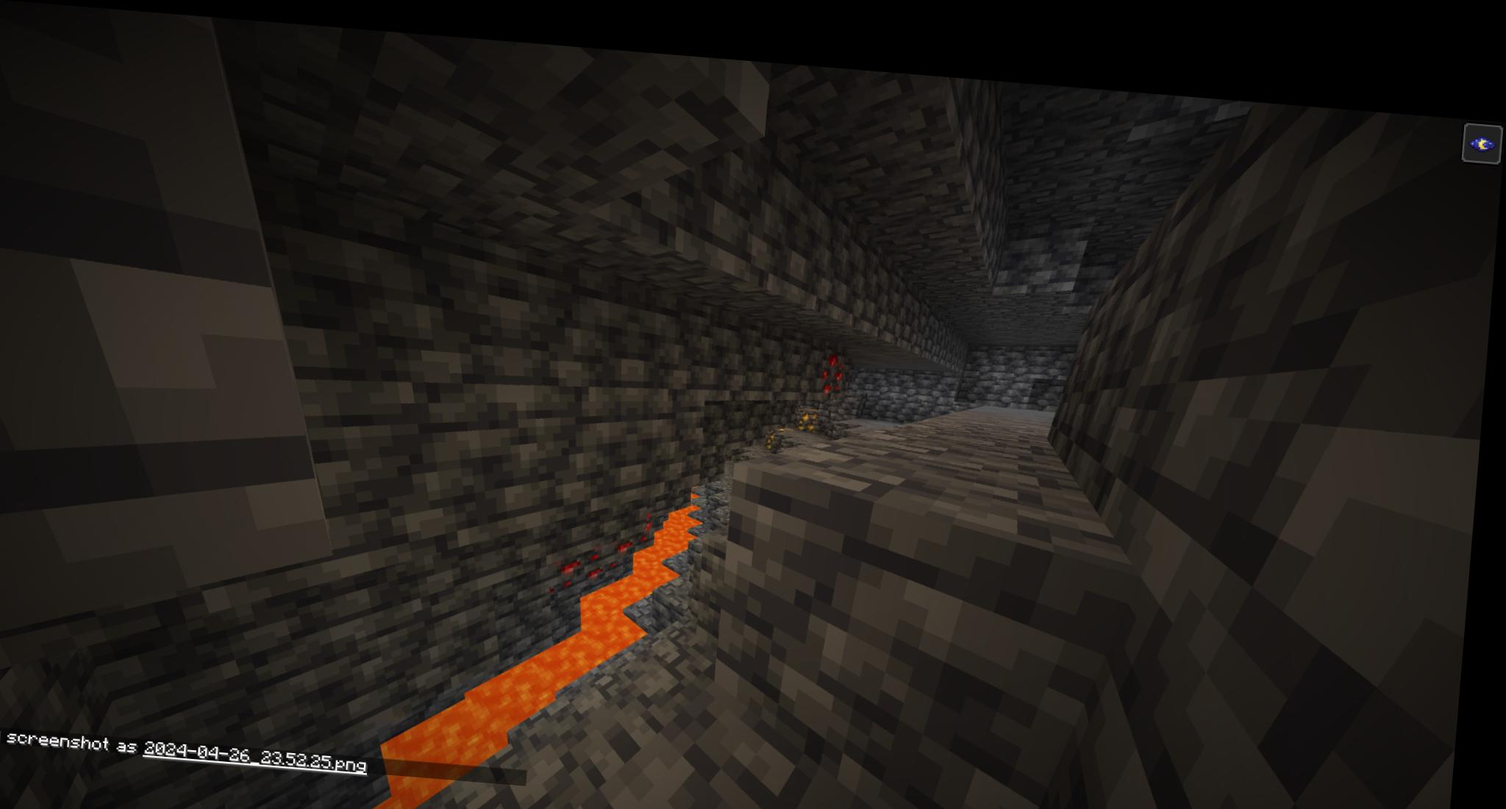gold ore: (799, 391, 830, 423), (767, 409, 798, 439)
redstone ore: (559, 499, 635, 575), (821, 333, 855, 379)
